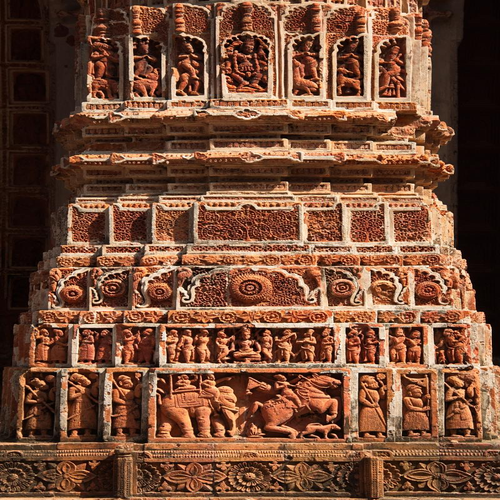Temple: (31, 7, 485, 467)
